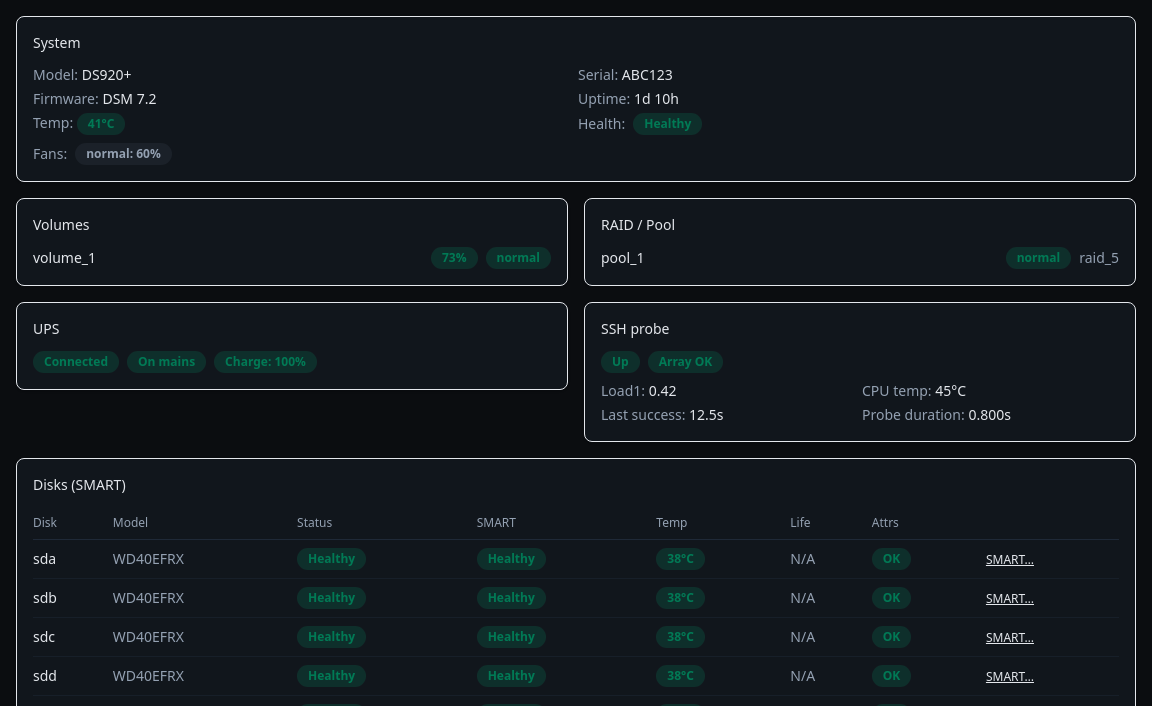
Test: SynologyHardwareTab › shows the drill honest-empty state when probe is down (attrs empty, data_available)
The width and height of the screenshot is (1152, 706).
Click the button with test id "synology-disk-drill-sda". click: (1010, 560)
box: [986,552,1034,568]
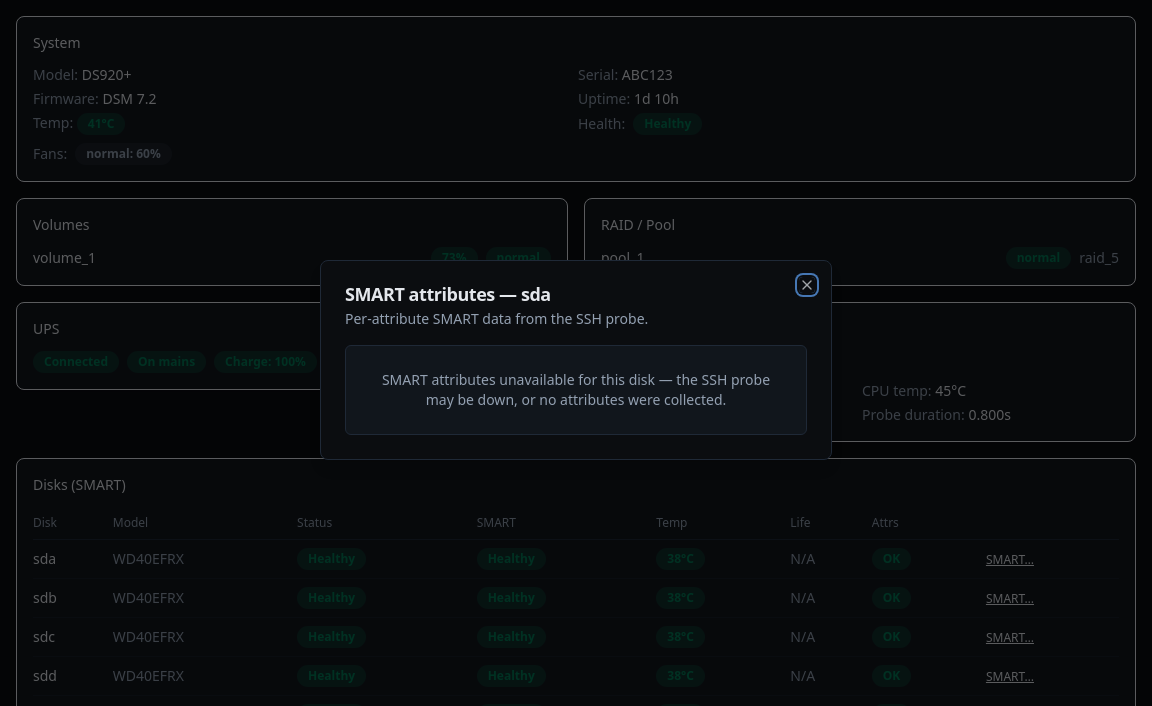
Result: the text with test id "synology-smart-empty-down" is shown at [345,345,807,435]
